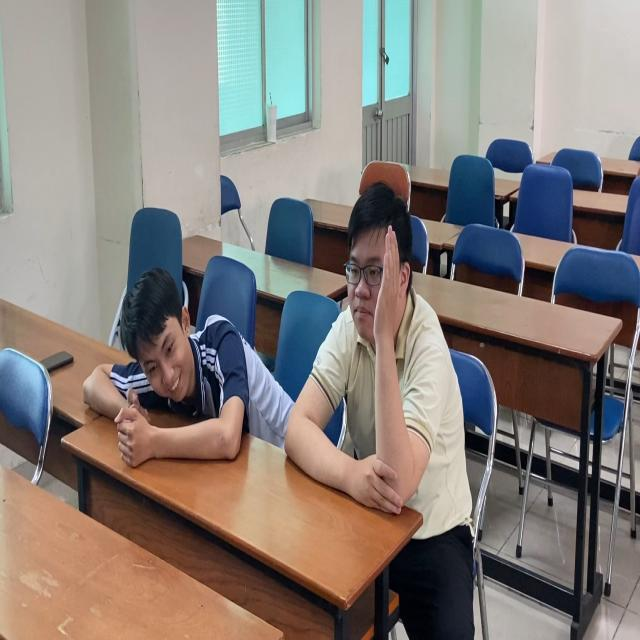raise_hand: (304, 178, 459, 523)
sleep: (94, 262, 276, 474)
